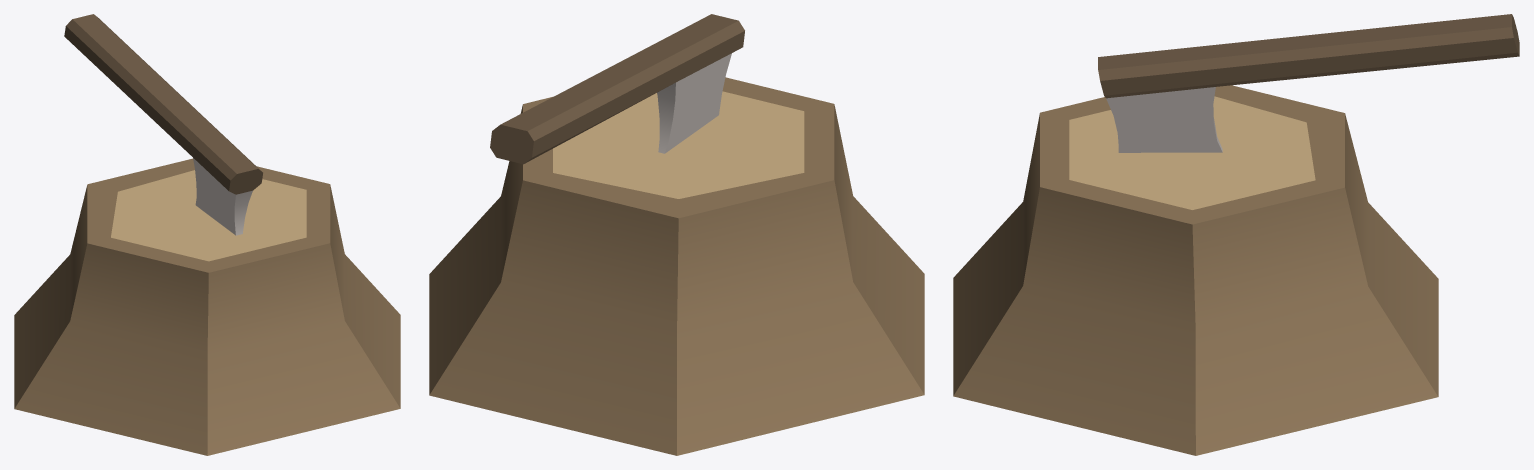
Rendered from Axe_log.fbx.
The picture shows the model from 3 angles, left to right: view 1: azimuth 30°, elevation 25°; view 2: azimuth 150°, elevation 25°; view 3: azimuth 270°, elevation 25°; orthographic projection. The views are drawn at different scales.
Visible parts, largest first — view 1: Axe_log; view 2: Axe_log; view 3: Axe_log.
Boxes of the visible parts, left/top/right/bottom form: Axe_log: left=14, top=14, right=400, bottom=455; Axe_log: left=429, top=14, right=924, bottom=455; Axe_log: left=953, top=14, right=1519, bottom=455.
Bounding box in the file's own units: 90.84 × 56.92 × 91.85.
Materials: 1 (1 with a texture image).
